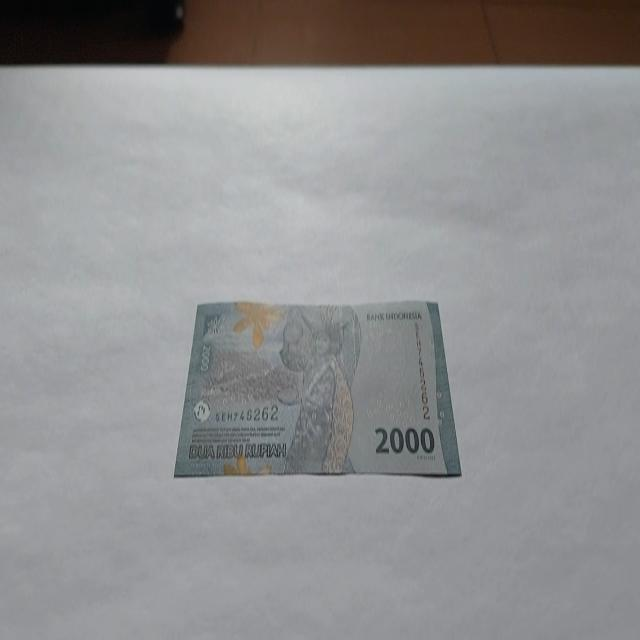dua ribu rupiah: (173, 297, 462, 479)
